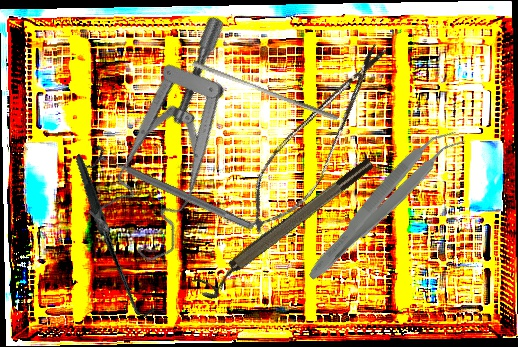Fixation Ring: (192, 154, 382, 304), (84, 141, 259, 241)
Hook Surgical: (34, 153, 195, 320)
Micro Scissor: (230, 30, 402, 247)
Pusher: (190, 60, 341, 121)
Speculum: (49, 12, 312, 277)
Tissue Forceps: (301, 118, 466, 292)
